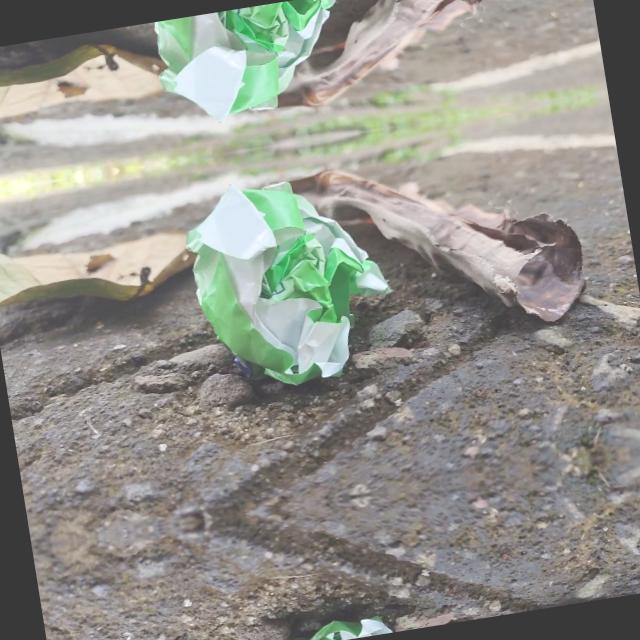paper: (173, 161, 400, 403), (146, 0, 357, 132), (243, 601, 440, 640)
